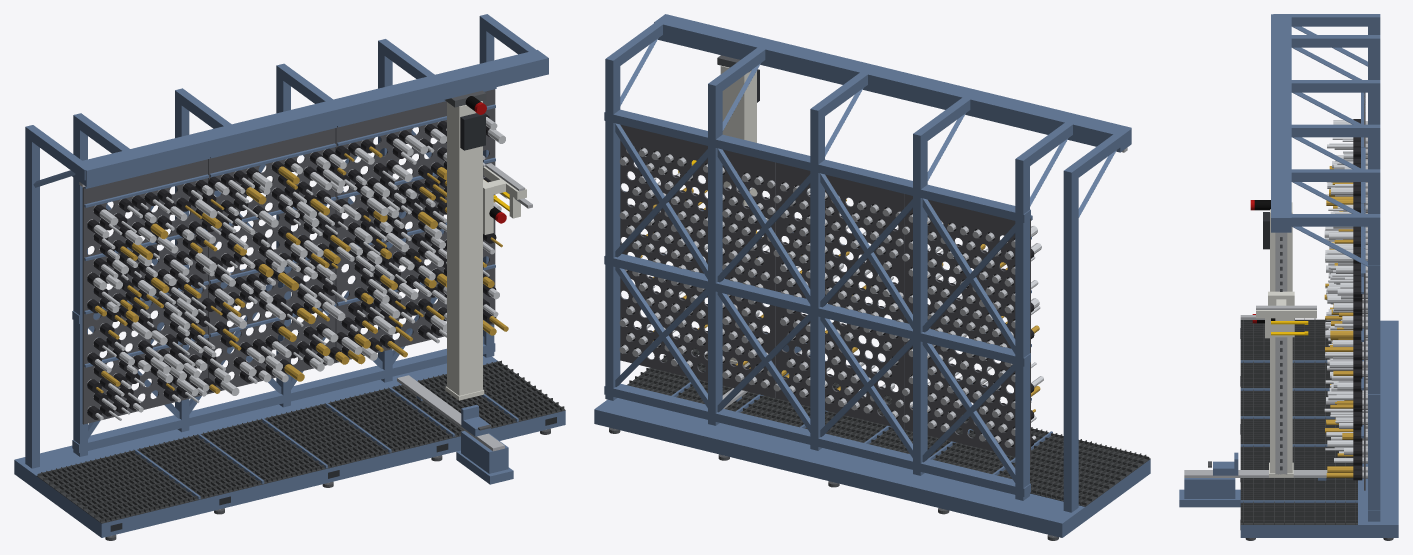
File: tool_wall_magazine_3mod.glb
3 views of the same model, side by side, from view 1: azimuth 30°, elevation 25°; view 2: azimuth 150°, elevation 25°; view 3: azimuth 270°, elevation 25° (orthographic). The views are drawn at different scales.
Visible parts, largest first — view 1: twm_frame__fms_blue, twm_tools__holder, twm_frame__anthracite_lt, twm_base__grating, twm_tools__tool_bright, twm_base__fms_blue, mag_loader__struct_grey, twm_tools__tool_gold, twm_load_station__fms_blue, twm_tools__steel, twm_load_station__steel, mag_loader_z__struct_grey (+1 smaller); view 2: twm_frame__fms_blue, twm_frame__anthracite_lt, twm_base__fms_blue, twm_tools__steel, twm_base__grating, twm_tools__holder, mag_loader__struct_grey, twm_tools__tool_bright; view 3: twm_frame__fms_blue, twm_base__grating, twm_base__fms_blue, twm_tools__tool_bright, twm_tools__holder, mag_loader__struct_grey, mag_loader__steel, twm_tools__tool_gold, twm_load_station__fms_blue, mag_loader_z__struct_grey, twm_tools__steel, twm_load_station__steel (+5 smaller).
Boxes of the visible parts, bbox=[...] form: twm_frame__fms_blue: bbox=[25, 14, 548, 468]; twm_tools__holder: bbox=[87, 113, 496, 419]; twm_frame__anthracite_lt: bbox=[82, 89, 495, 424]; twm_base__grating: bbox=[37, 360, 565, 523]; twm_tools__tool_bright: bbox=[93, 117, 507, 420]; twm_base__fms_blue: bbox=[14, 356, 565, 537]; mag_loader__struct_grey: bbox=[445, 101, 484, 400]; twm_tools__tool_gold: bbox=[94, 146, 508, 393]; twm_load_station__fms_blue: bbox=[416, 396, 513, 484]; twm_tools__steel: bbox=[87, 121, 484, 411]; twm_load_station__steel: bbox=[397, 375, 504, 451]; mag_loader_z__struct_grey: bbox=[483, 166, 526, 234]; twm_frame__fms_blue: bbox=[604, 14, 1131, 512]; twm_frame__anthracite_lt: bbox=[620, 124, 1030, 460]; twm_base__fms_blue: bbox=[594, 373, 1150, 537]; twm_tools__steel: bbox=[619, 148, 1015, 447]; twm_base__grating: bbox=[627, 347, 1150, 506]; twm_tools__holder: bbox=[621, 147, 1034, 446]; mag_loader__struct_grey: bbox=[720, 65, 756, 367]; twm_tools__tool_bright: bbox=[634, 158, 1043, 439]; twm_frame__fms_blue: bbox=[1271, 14, 1380, 521]; twm_base__grating: bbox=[1240, 318, 1357, 524]; twm_base__fms_blue: bbox=[1240, 320, 1398, 537]; twm_tools__tool_bright: bbox=[1324, 120, 1353, 462]; twm_tools__holder: bbox=[1353, 119, 1362, 480]; mag_loader__struct_grey: bbox=[1269, 202, 1293, 477]; mag_loader__steel: bbox=[1275, 232, 1287, 474]; twm_tools__tool_gold: bbox=[1324, 166, 1353, 477]; twm_load_station__fms_blue: bbox=[1179, 478, 1326, 507]; mag_loader_z__struct_grey: bbox=[1256, 291, 1316, 337]; twm_tools__steel: bbox=[1362, 121, 1367, 478]; twm_load_station__steel: bbox=[1184, 470, 1327, 477].
Size of the model in its own units: 4.74 by 3.54 by 2.15.
